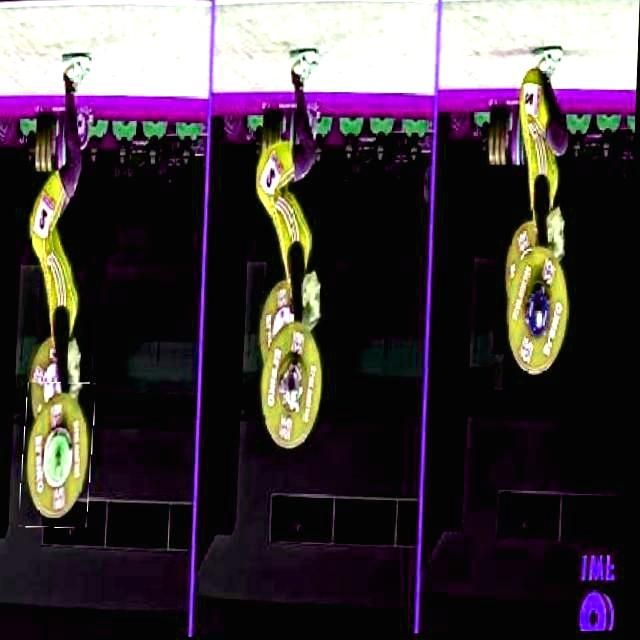barbell: (25, 382, 98, 529)
